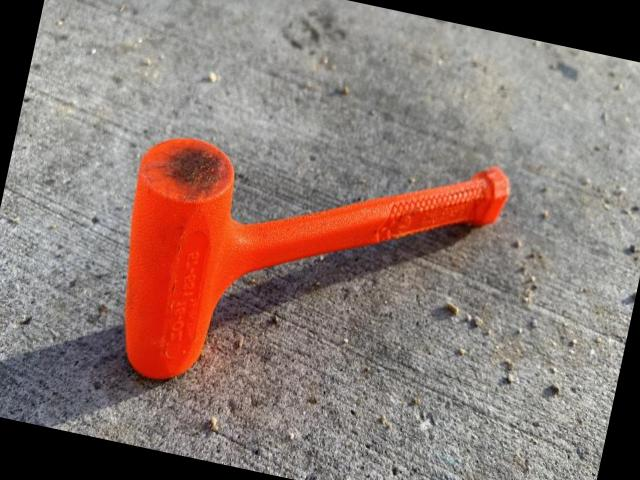hammer: (96, 88, 514, 442)
